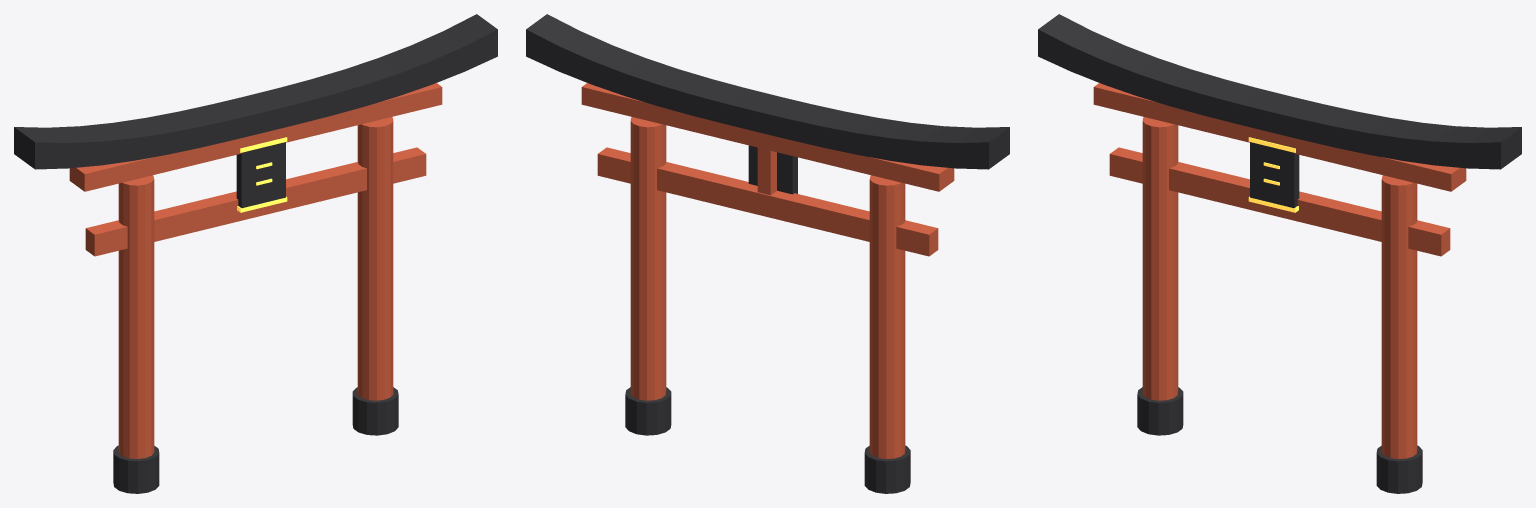
The model's file is jp_torii.glb.
3 views of the same model, side by side, from view 1: azimuth 30°, elevation 25°; view 2: azimuth 150°, elevation 25°; view 3: azimuth 330°, elevation 25° (orthographic).
Visible parts, largest first — view 1: jp_torii; view 2: jp_torii; view 3: jp_torii.
Boxes of the visible parts, x1,y1,x2,y2 form: jp_torii: (14,14,497,493); jp_torii: (526,14,1009,493); jp_torii: (1038,14,1521,493).
Size of the model in its own units: 3.56 by 2.77 by 0.31.
